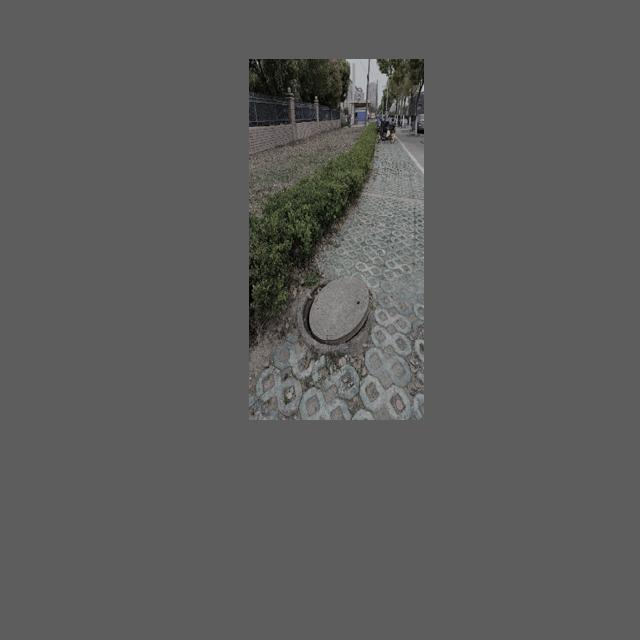uncovered: (297, 273, 373, 355)
